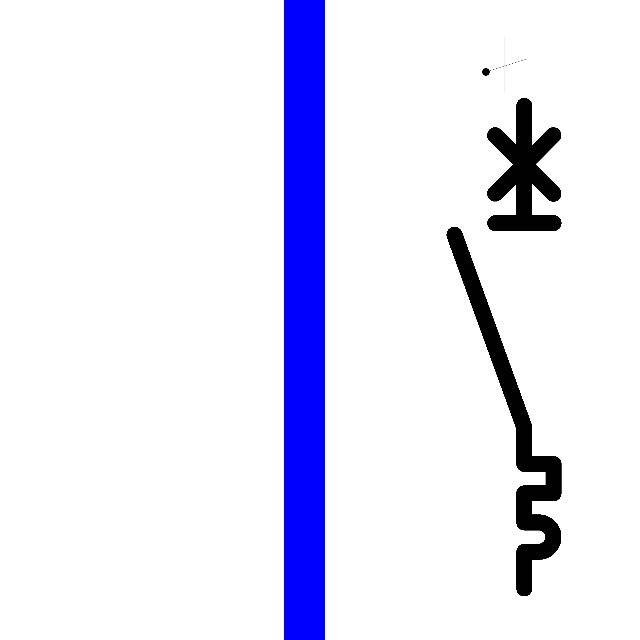interruptor_termomagnetico: (442, 93, 566, 600)
